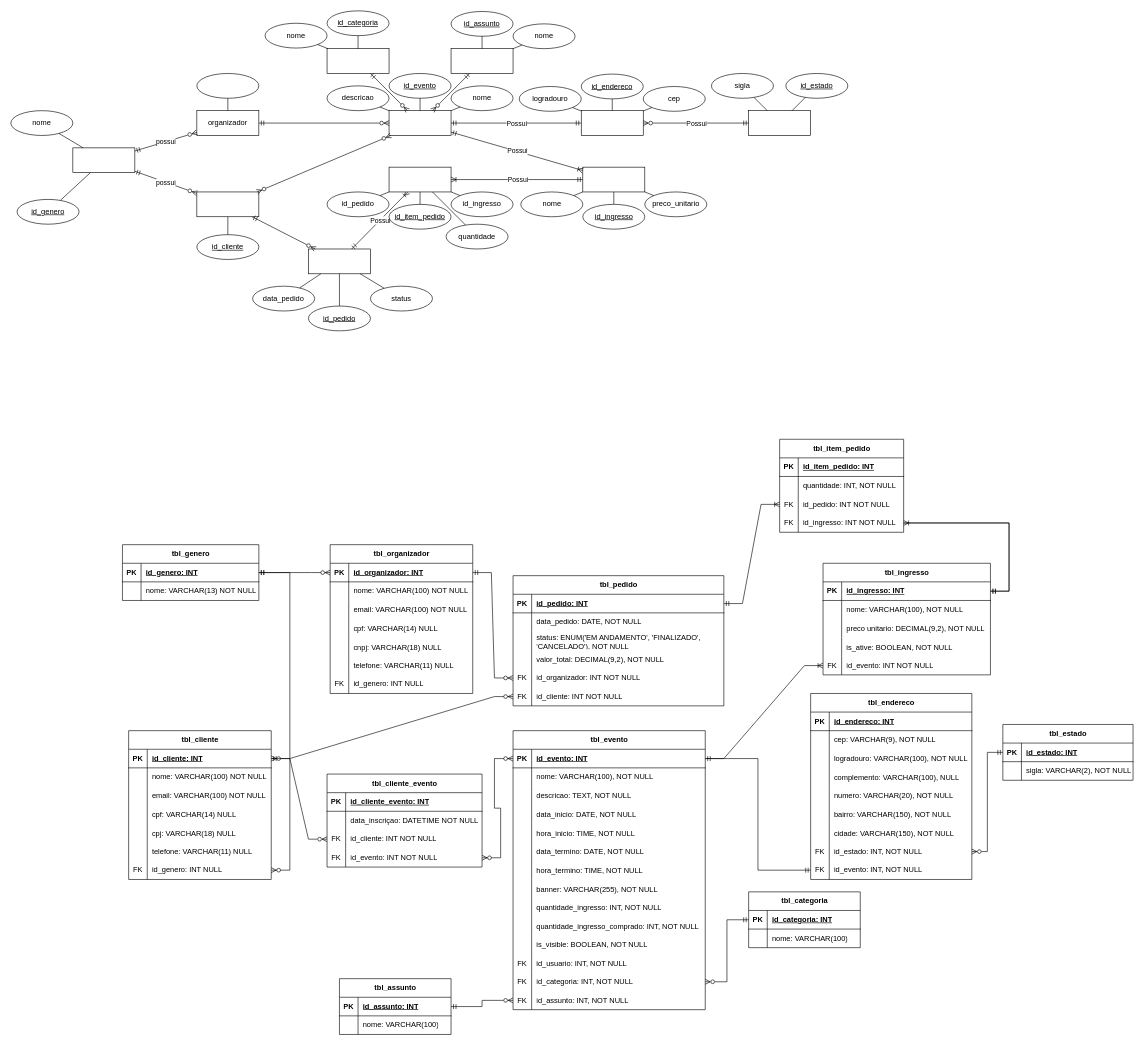
Image size: 1144x1045. Some labels were removed from this diagram. The shapes that lost their labels are listed below. From the top down, each one's centre as x and y in pixels, then its label:
At [357,60]: "categoria".
At [481,60]: "assunto".
At [227,85]: "id_organizador".
At [419,122]: "evento".
At [612,122]: "endereco".
At [779,122]: "estado".
At [103,160]: "genero".
At [419,179]: "item_pedido".
At [613,179]: "ingresso".
At [227,204]: "cliente".
At [339,261]: "pedido".
